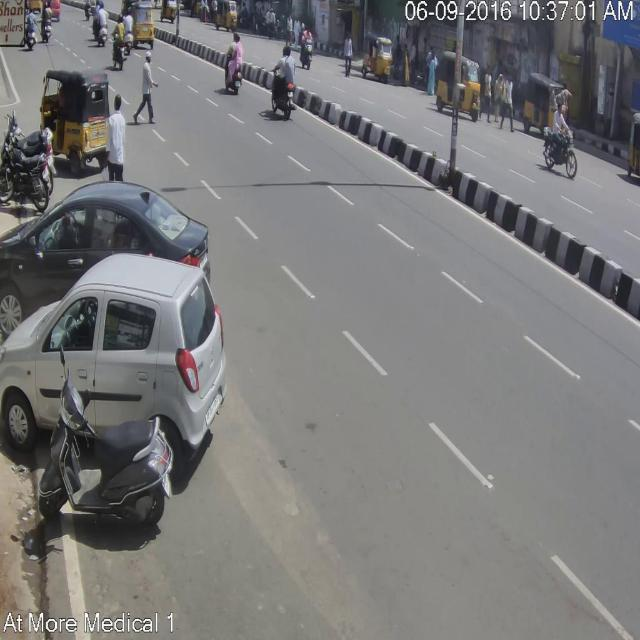with helmet: (117, 13, 123, 23), (282, 46, 288, 54)
without helmet: (232, 33, 238, 41), (286, 46, 290, 56), (236, 35, 240, 41)
